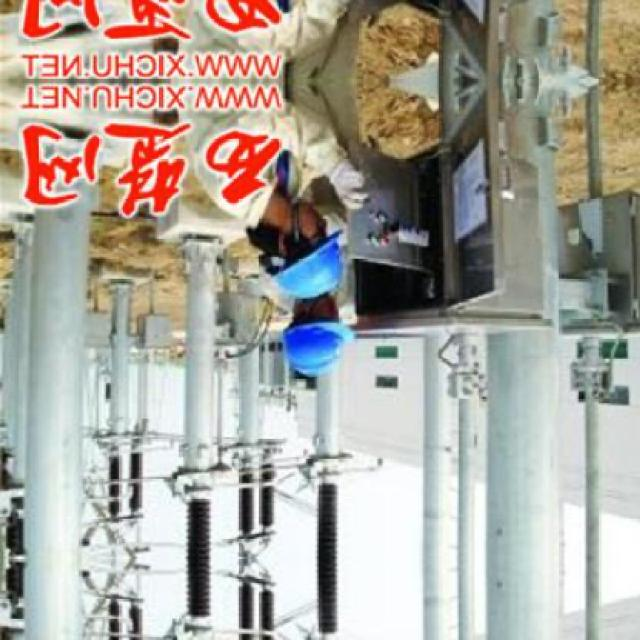con casco: (244, 193, 374, 297), (269, 296, 378, 384)
